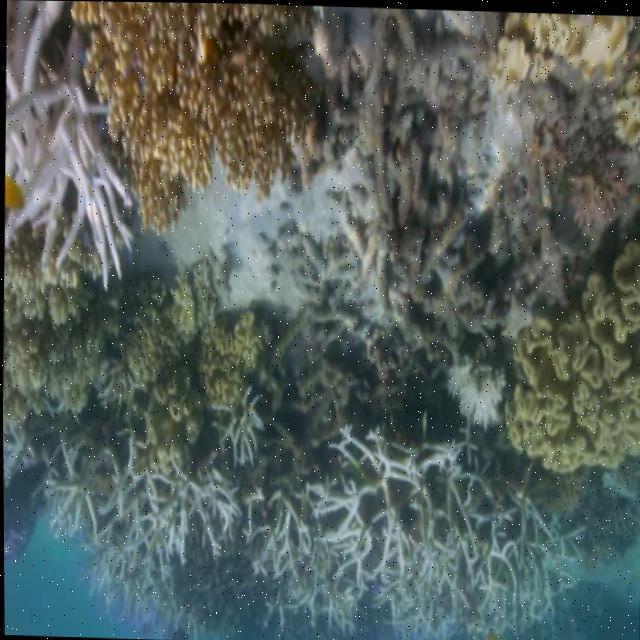Bleached Coral: (125, 448, 585, 580), (6, 3, 131, 288), (432, 336, 514, 436)
Healthy Coral: (8, 298, 282, 420), (150, 11, 310, 190)
